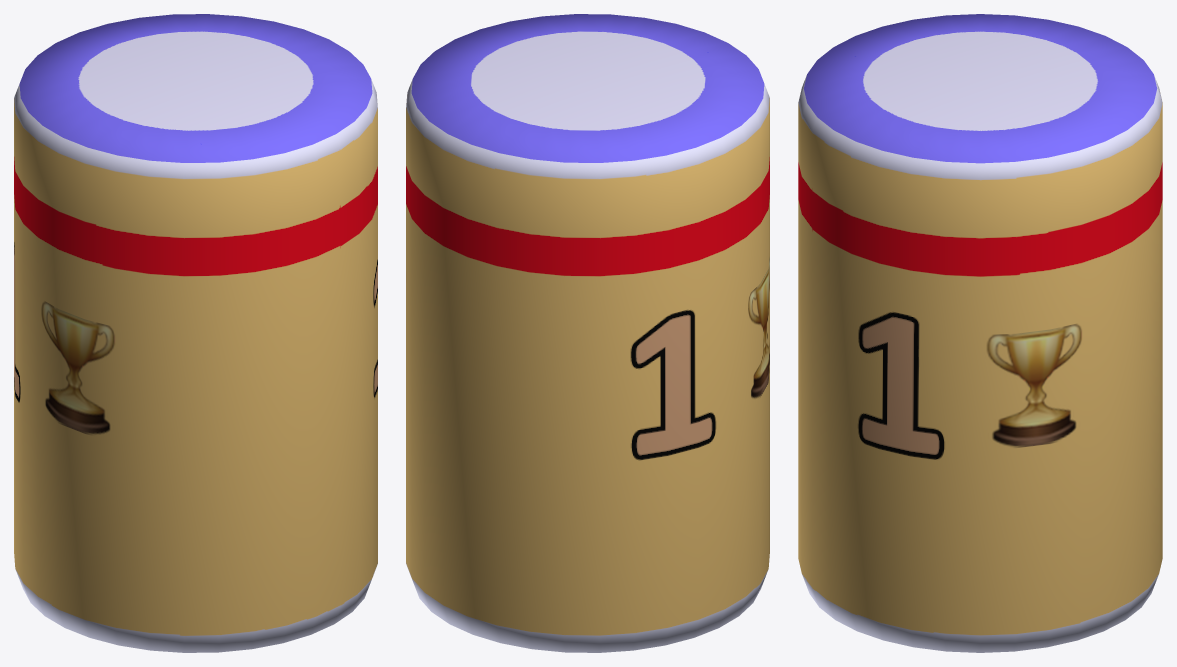
The model's file is SmallStone.fbx.
3 renders of one model, left to right at view 1: azimuth 30°, elevation 25°; view 2: azimuth 150°, elevation 25°; view 3: azimuth 270°, elevation 25°, orthographic.
Parts seen in each view (by area): view 1: SmallStone; view 2: SmallStone; view 3: SmallStone.
Boxes of the visible parts, <box> form: SmallStone: <box>14,14,377,652</box>; SmallStone: <box>406,14,769,652</box>; SmallStone: <box>798,14,1162,652</box>.
Bounding box in the file's own units: 1 × 1.51 × 1.
